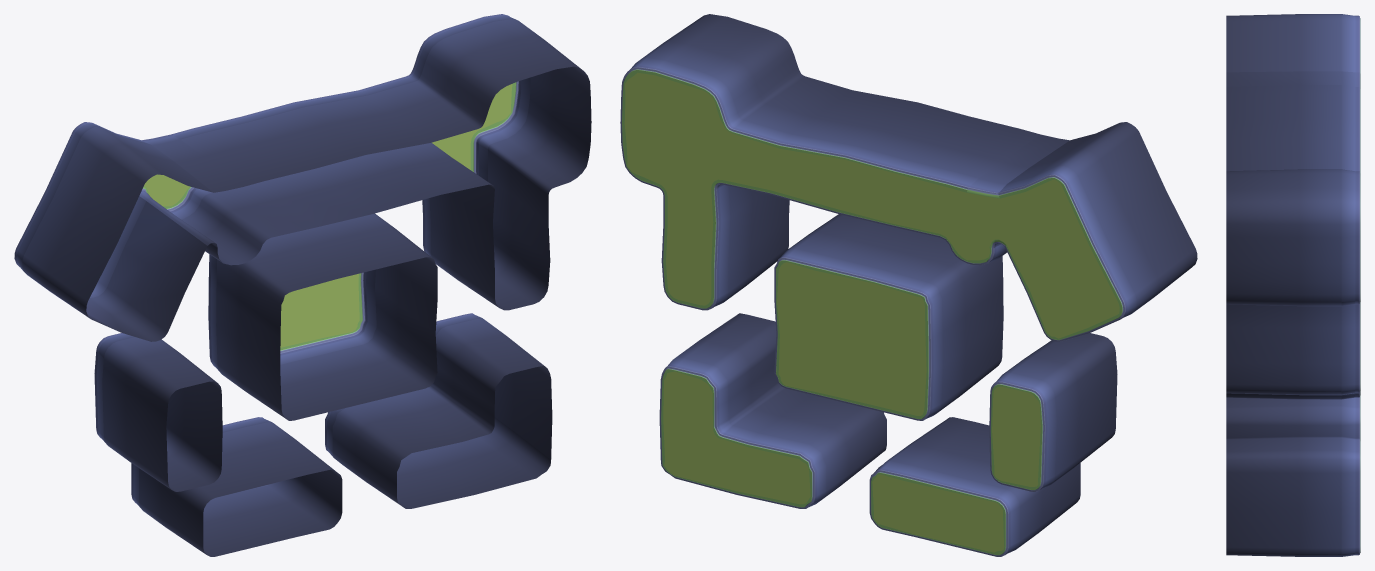
File: NotTerrain_LevelClouds.fbx
3 renders of one model, left to right at view 1: azimuth 30°, elevation 25°; view 2: azimuth 150°, elevation 25°; view 3: azimuth 270°, elevation 25°, orthographic. The views are drawn at different scales.
Visible parts, largest first — view 1: Terrain_LevelClouds; view 2: Terrain_LevelClouds; view 3: Terrain_LevelClouds.
Boxes of the visible parts, box(x1,y1,x2,y2) form: Terrain_LevelClouds: box(14, 14, 591, 556); Terrain_LevelClouds: box(620, 14, 1197, 556); Terrain_LevelClouds: box(1226, 14, 1360, 556).
Size of the model in its own units: 9781 by 7524 by 2423.
